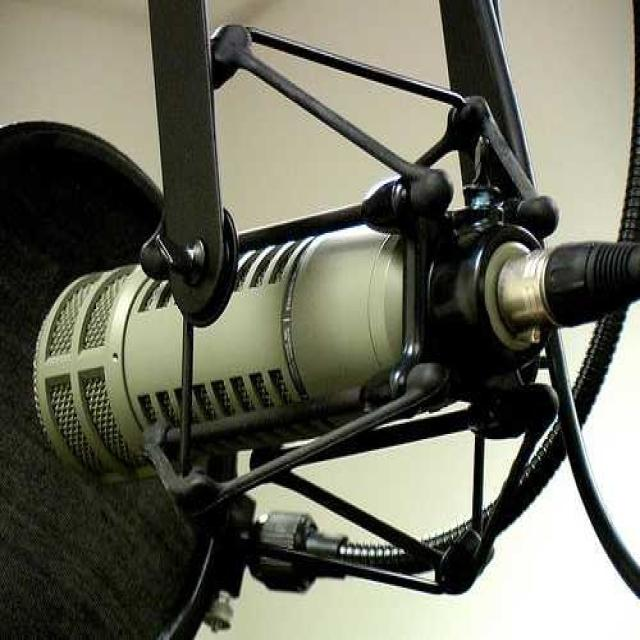microphone: (36, 209, 621, 482)
